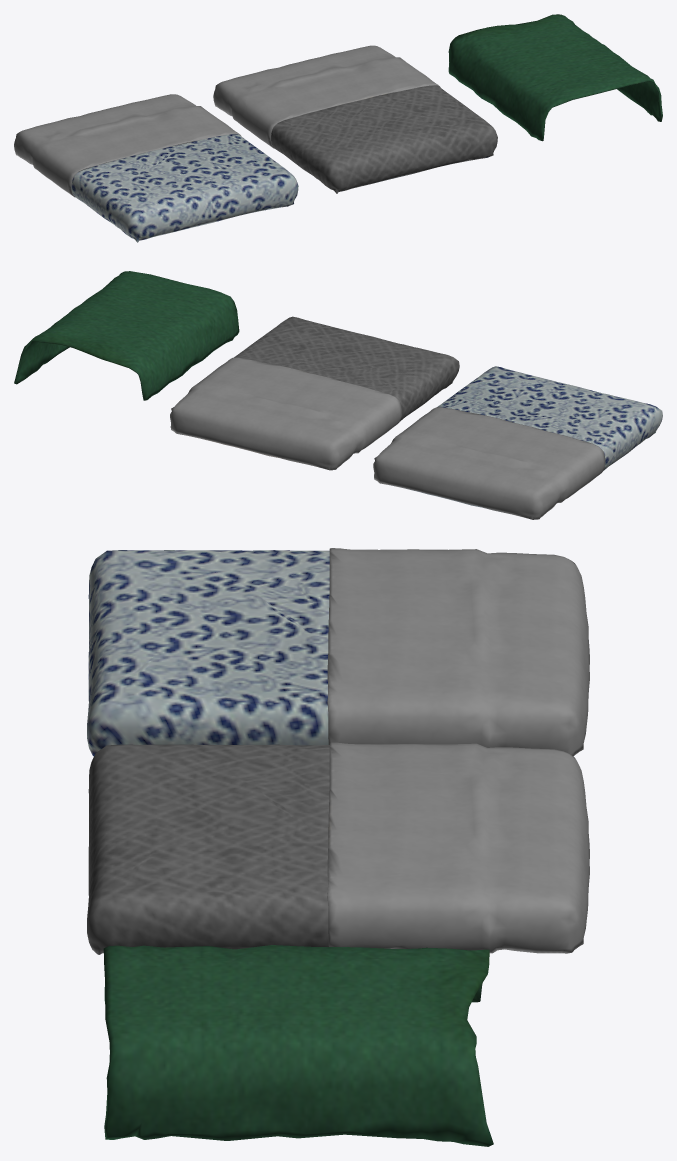
File: bedsheet facs Done.fbx
3 renders of one model, top to bottom at view 1: azimuth 30°, elevation 25°; view 2: azimuth 150°, elevation 25°; view 3: azimuth 270°, elevation 25°, orthographic. The views are drawn at different scales.
Parts seen in each view (by area): view 1: bedsheet_1, bedsheet_2.004, single_bedsheed_1; view 2: bedsheet_2.004, bedsheet_1, single_bedsheed_1; view 3: bedsheet_2.004, bedsheet_1, single_bedsheed_1.
Boxes of the visible parts, bbox=[...] form: bedsheet_1: bbox=[14, 94, 298, 242]; bedsheet_2.004: bbox=[213, 45, 497, 193]; single_bedsheed_1: bbox=[448, 14, 662, 141]; bedsheet_2.004: bbox=[170, 316, 459, 470]; bedsheet_1: bbox=[373, 366, 662, 519]; single_bedsheed_1: bbox=[14, 271, 239, 400]; bedsheet_2.004: bbox=[87, 742, 589, 954]; bedsheet_1: bbox=[87, 548, 589, 756]; single_bedsheed_1: bbox=[103, 945, 493, 1146].
Size of the model in its own units: 5.71 by 0.4909 by 2.3.
